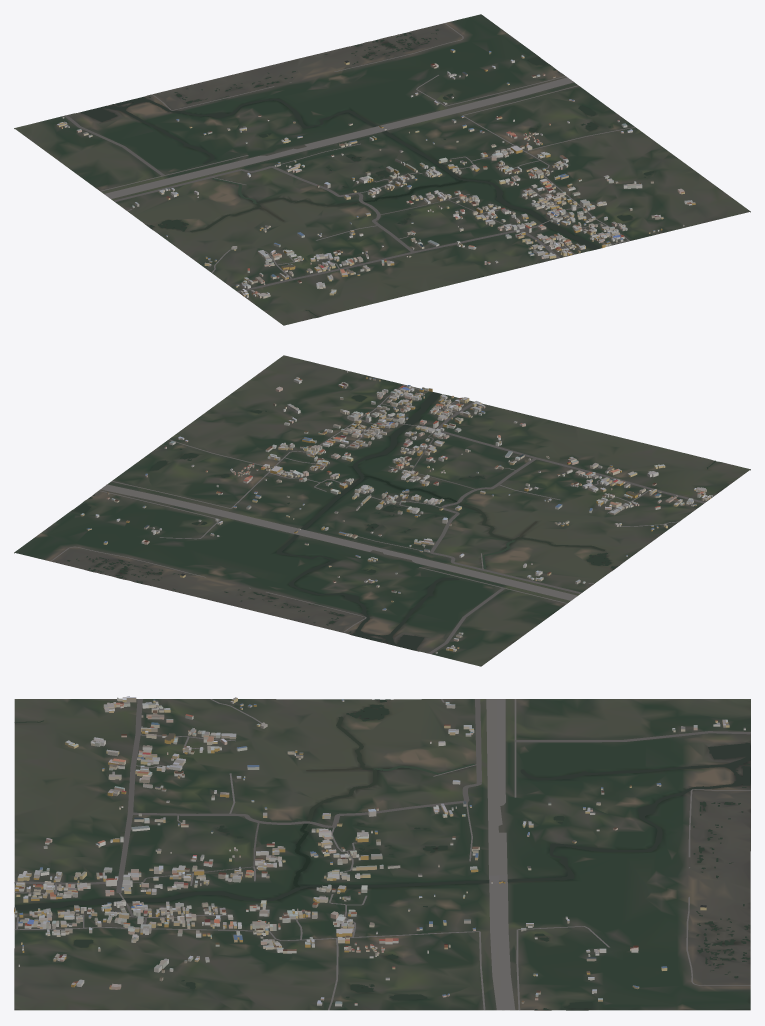
3 renders of one model, top to bottom at view 1: azimuth 30°, elevation 25°; view 2: azimuth 150°, elevation 25°; view 3: azimuth 270°, elevation 25°, orthographic. The views are drawn at different scales.
Parts seen in each view (by area): view 1: ground, buildings, roads, water; view 2: ground, buildings, roads, water; view 3: ground, buildings, roads, water.
Part boxes in pixels (x1=…): ground: x1=14, y1=14, x2=750, y2=325; buildings: x1=56, y1=49, x2=695, y2=298; roads: x1=64, y1=23, x2=635, y2=292; water: x1=80, y1=29, x2=653, y2=316; ground: x1=14, y1=355, x2=750, y2=666; buildings: x1=80, y1=371, x2=712, y2=653; roads: x1=50, y1=384, x2=705, y2=653; water: x1=67, y1=392, x2=715, y2=650; ground: x1=14, y1=699, x2=750, y2=1010; buildings: x1=14, y1=696, x2=745, y2=1006; roads: x1=14, y1=699, x2=750, y2=1010; water: x1=14, y1=699, x2=750, y2=1009.
Size of the model in its own units: 1402 by 17.23 by 1402.
